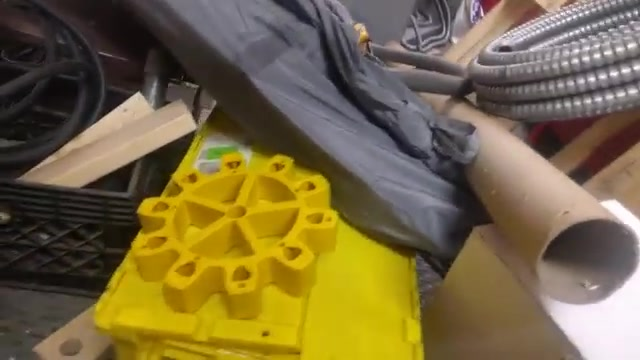gear: (121, 150, 351, 331)
